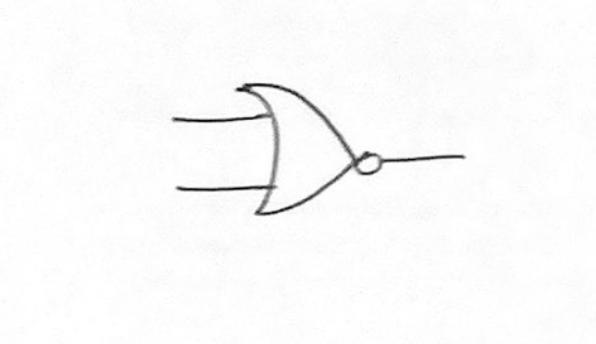NOR: (220, 65, 404, 223)
